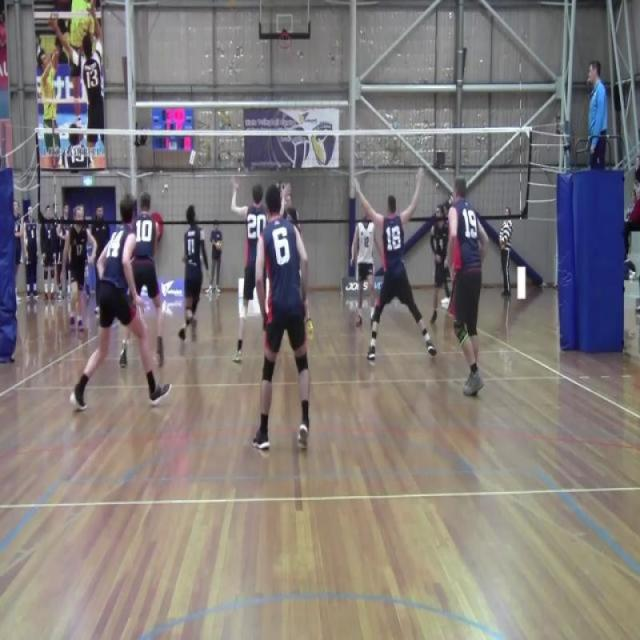volleyball: (226, 0, 236, 9), (215, 240, 222, 252)
